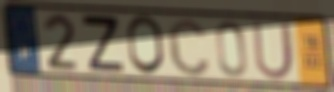0: (214, 19, 249, 79)
2: (40, 11, 80, 73)
C: (165, 16, 213, 79)
O: (125, 13, 167, 77)
U: (250, 19, 297, 83)
Z: (78, 13, 127, 74)
